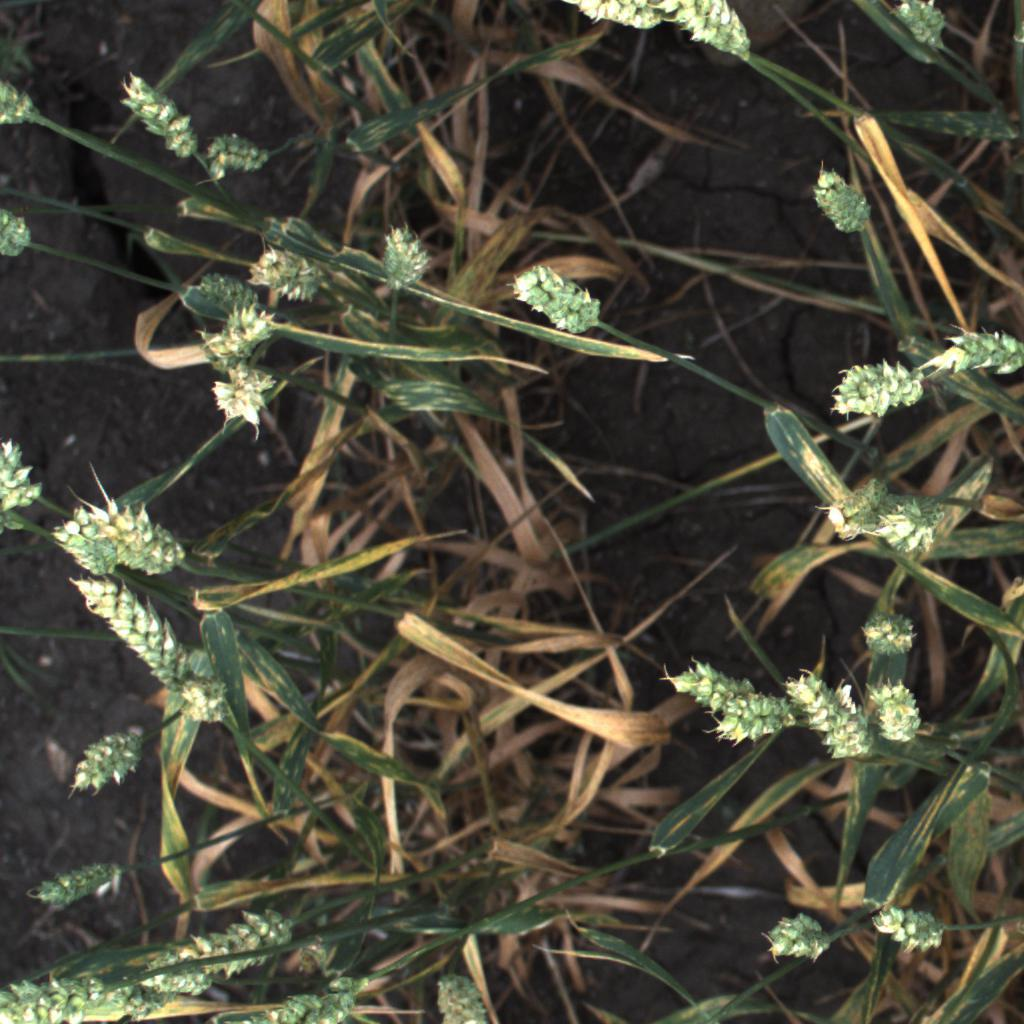0-0: (100, 900, 307, 999), (69, 566, 190, 696), (779, 659, 882, 773), (107, 53, 208, 169), (92, 485, 196, 585), (0, 963, 169, 1024), (495, 255, 608, 340), (53, 715, 155, 807), (817, 350, 932, 426), (915, 317, 1024, 387), (27, 850, 129, 922), (208, 363, 291, 448), (239, 231, 330, 308), (243, 968, 368, 1024), (858, 891, 955, 962), (372, 205, 438, 309), (697, 690, 808, 750), (660, 1, 763, 63), (525, 0, 682, 39), (754, 898, 840, 968), (195, 296, 278, 366), (660, 650, 759, 707), (421, 953, 500, 1024), (44, 505, 120, 577), (0, 424, 49, 530), (851, 599, 921, 672), (203, 116, 286, 177), (811, 167, 875, 243), (867, 676, 926, 756), (882, 0, 955, 62), (881, 494, 953, 554), (819, 481, 897, 535), (0, 201, 36, 278), (0, 74, 39, 133), (187, 683, 238, 720)
